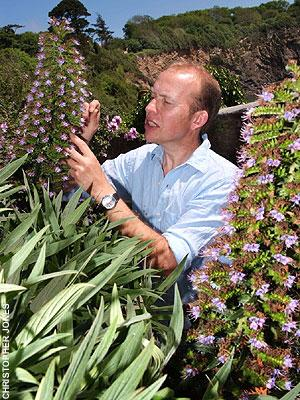person: (63, 61, 243, 306)
